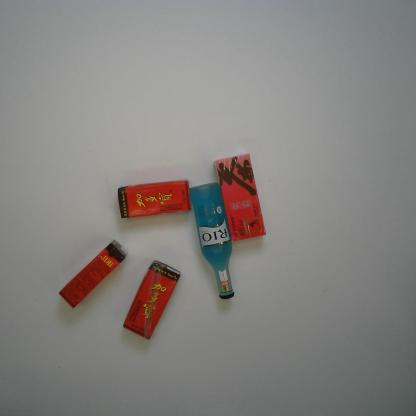Alcohol: (189, 181, 235, 300)
Drink: (58, 239, 128, 310), (122, 259, 181, 340), (117, 178, 193, 220)
Instant Drink: (214, 153, 266, 242)
